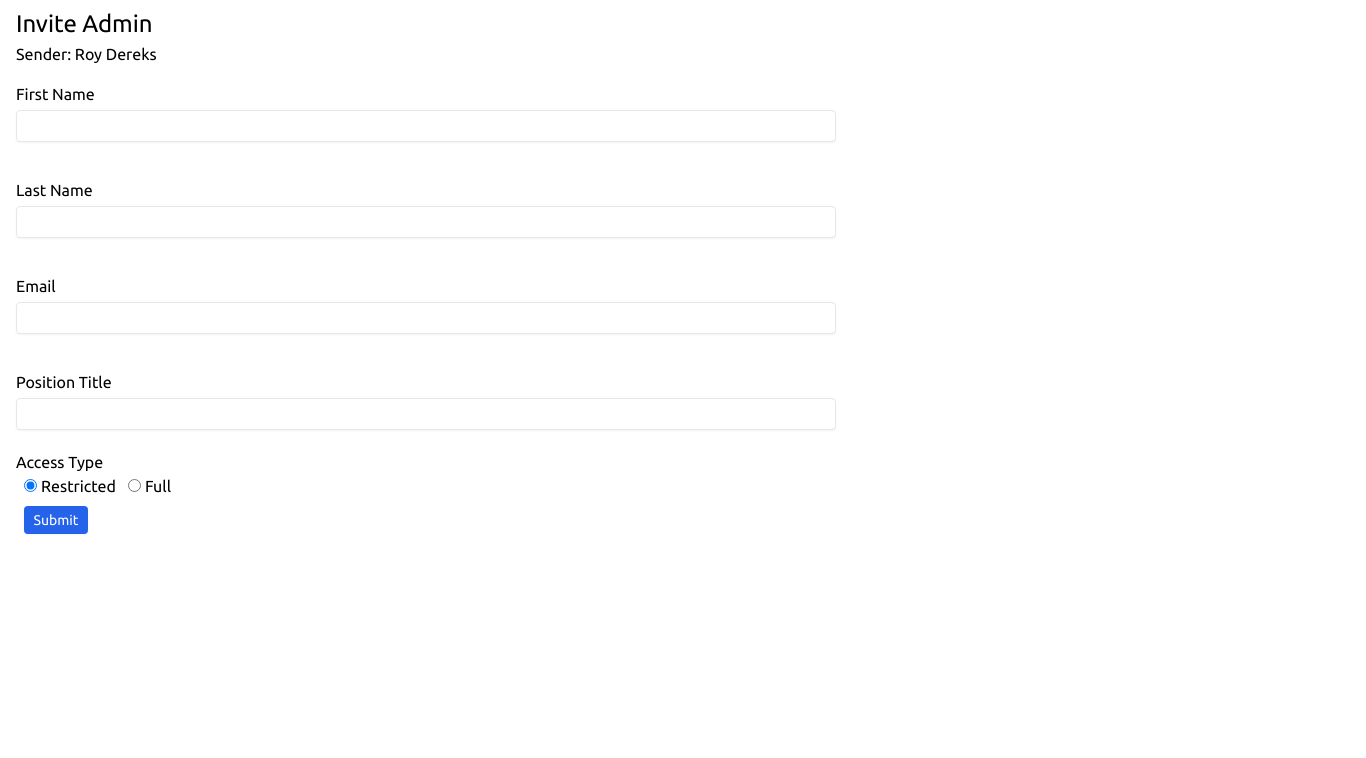
Test case: <InviteAdminForm /> › all expected errs are shown if submit btn pressed without valid fields
The width and height of the screenshot is (1366, 758).
Click the button "Submit".
click(56, 520)  # box left=24, top=506, right=88, bottom=534
(page scrolled)
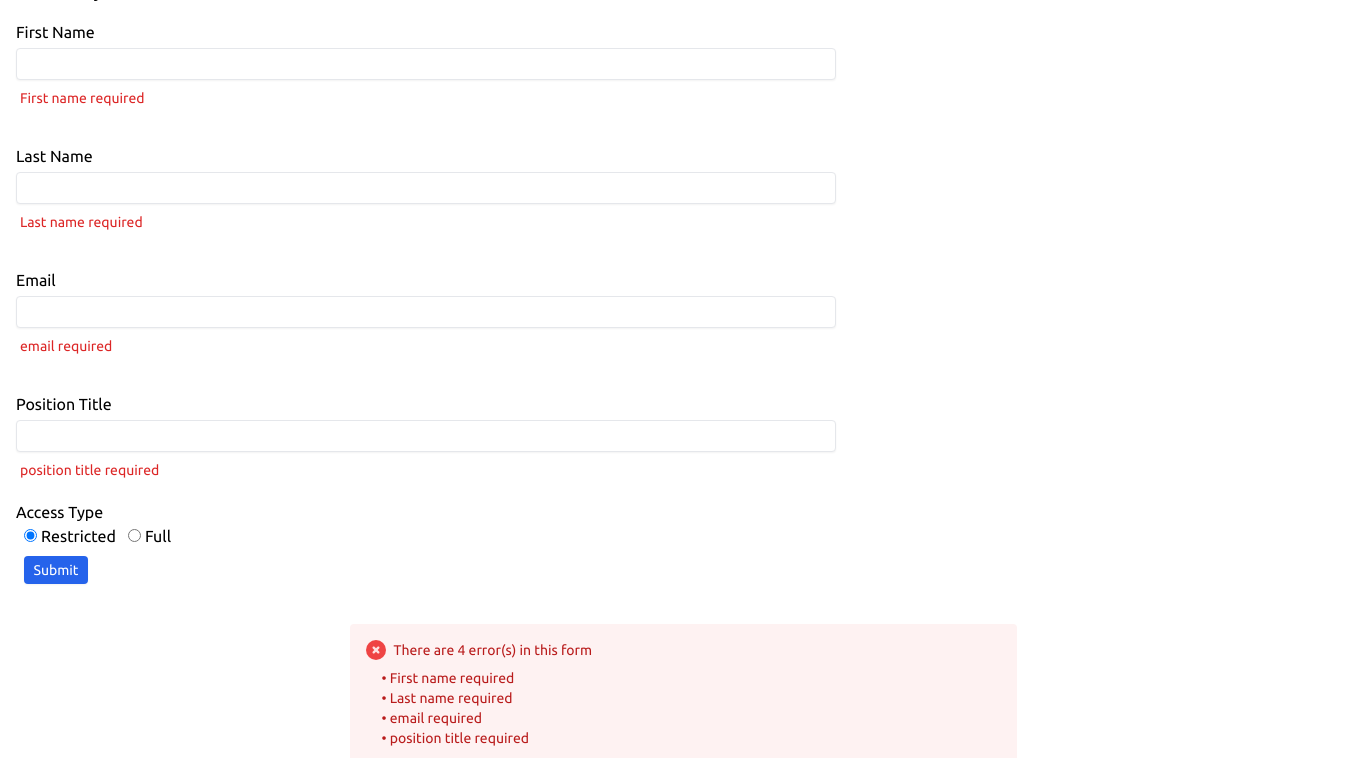
Expected: the element with test id "invite-admin-form" shows "First name required", left=20, top=90, right=145, bottom=106
Expected: the element with test id "invite-admin-form" shows "Last name required", left=20, top=214, right=143, bottom=230
Expected: the element with test id "invite-admin-form" shows "email required", left=20, top=338, right=112, bottom=354
